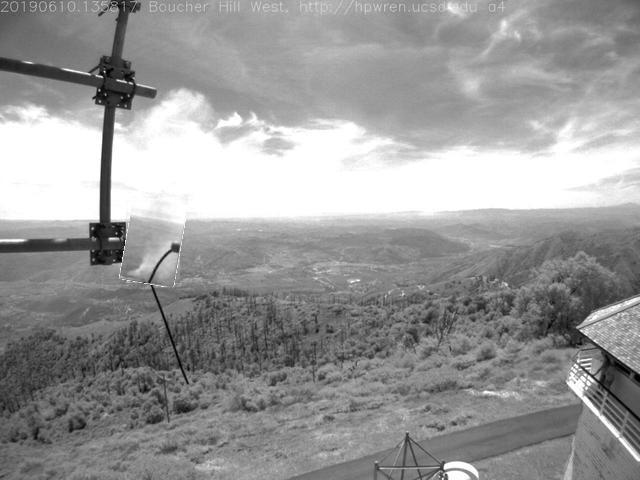smoke: (124, 199, 185, 287)
